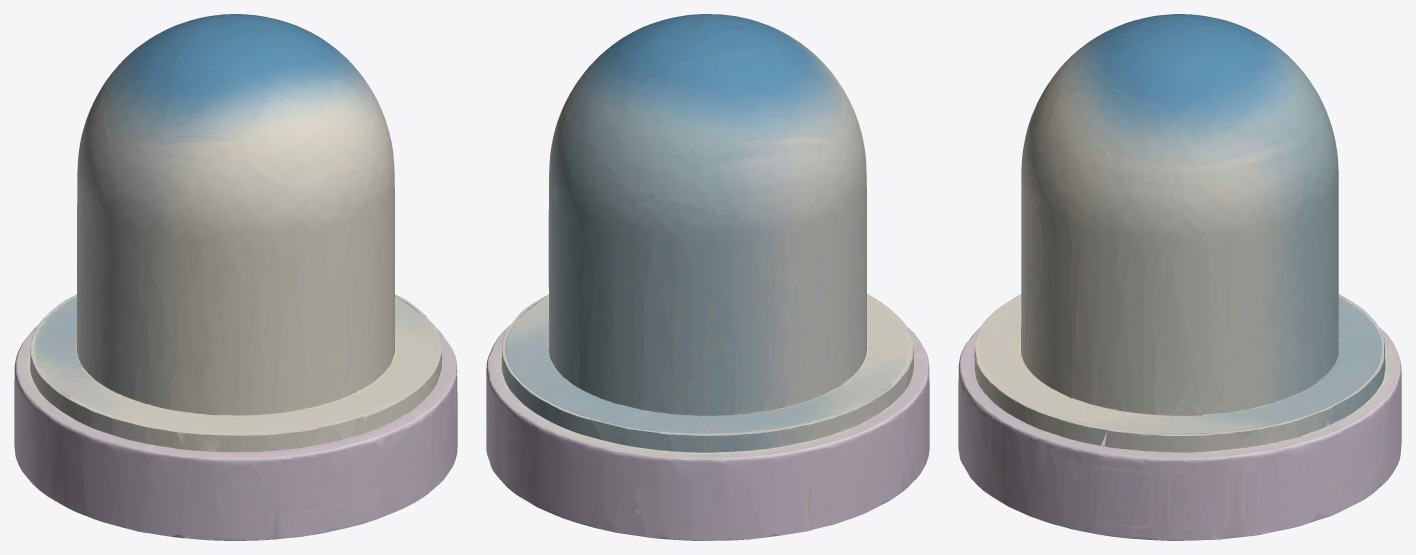
File: evidence-podium.gltf
3 views of the same model, side by side, from view 1: azimuth 30°, elevation 25°; view 2: azimuth 150°, elevation 25°; view 3: azimuth 270°, elevation 25° (orthographic).
Size of the model in its own units: 1.83 by 1.9 by 1.83.
1 material, 1 textured.
